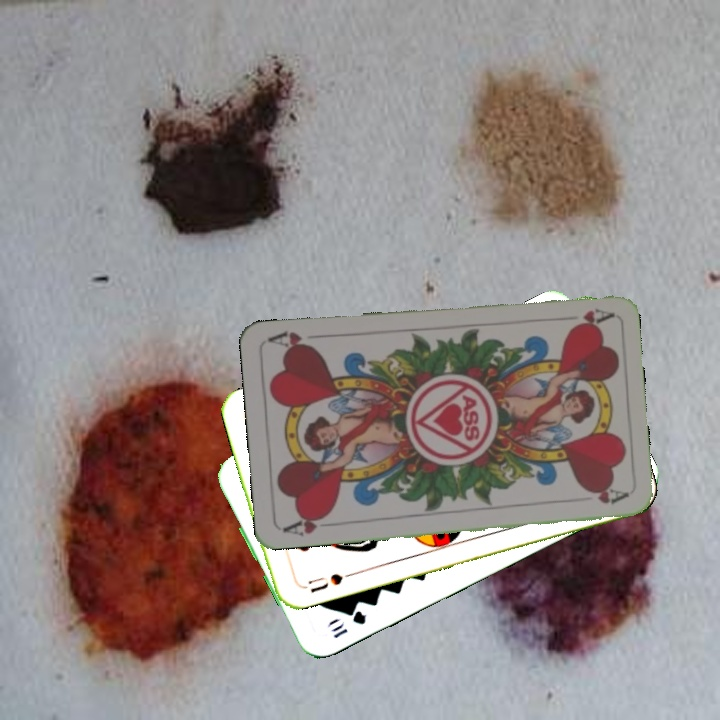G10: (328, 606, 369, 641)
HA: (279, 509, 334, 539), (554, 304, 613, 331)
SU: (294, 569, 345, 592)
